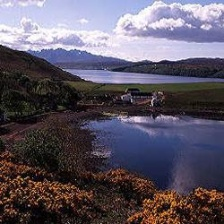neutral: (2, 17, 224, 223)
